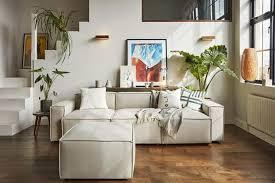light: (93, 30, 114, 43), (198, 35, 218, 41)
sofa: (50, 86, 228, 141)
table: (51, 123, 138, 182), (85, 84, 178, 92), (33, 110, 51, 133)
